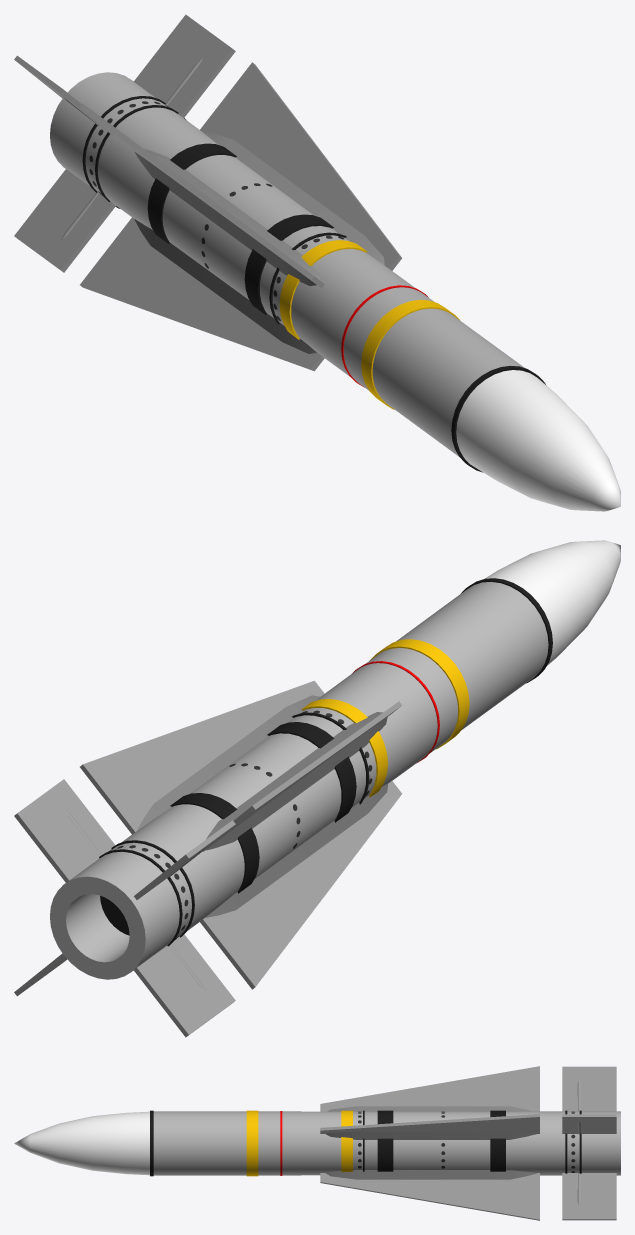
Rendered from missil2.glb.
The picture shows the model from 3 angles, top to bottom: view 1: azimuth 30°, elevation 25°; view 2: azimuth 150°, elevation 25°; view 3: azimuth 270°, elevation 25°; orthographic projection. The views are drawn at different scales.
Parts seen in each view (by area): view 1: Cylinder.027_55, Plane.008_57, Cone.005_129, Plane.007_58, Cube.015_52, Cylinder.028_54; view 2: Cylinder.027_55, Plane.008_57, Plane.007_58, Cylinder.028_54, Cube.015_52, Cone.005_129; view 3: Cylinder.027_55, Plane.008_57, Plane.007_58, Cone.005_129, Cube.015_52, Cylinder.028_54, Cylinder.026_56.
Boxes of the visible parts, bbox=[...] form: Cylinder.027_55: bbox=[50, 72, 524, 456]; Plane.008_57: bbox=[79, 62, 401, 371]; Cone.005_129: bbox=[456, 370, 620, 511]; Plane.007_58: bbox=[14, 14, 235, 272]; Cube.015_52: bbox=[134, 131, 384, 353]; Cylinder.028_54: bbox=[82, 96, 545, 472]; Cylinder.027_55: bbox=[50, 582, 548, 979]; Plane.008_57: bbox=[80, 680, 402, 989]; Plane.007_58: bbox=[14, 779, 235, 1037]; Cylinder.028_54: bbox=[99, 578, 552, 946]; Cube.015_52: bbox=[137, 695, 387, 917]; Cone.005_129: bbox=[484, 540, 620, 665]; Cylinder.027_55: bbox=[153, 1111, 620, 1175]; Plane.008_57: bbox=[320, 1066, 539, 1220]; Plane.007_58: bbox=[562, 1066, 616, 1220]; Cone.005_129: bbox=[14, 1111, 149, 1175]; Cube.015_52: bbox=[326, 1106, 536, 1179]; Cylinder.028_54: bbox=[150, 1110, 581, 1176]; Cylinder.026_56: bbox=[358, 1111, 575, 1172].
Size of the model in its own units: 6.32 by 6.32 by 32.58.
11 materials, 10 textured.
